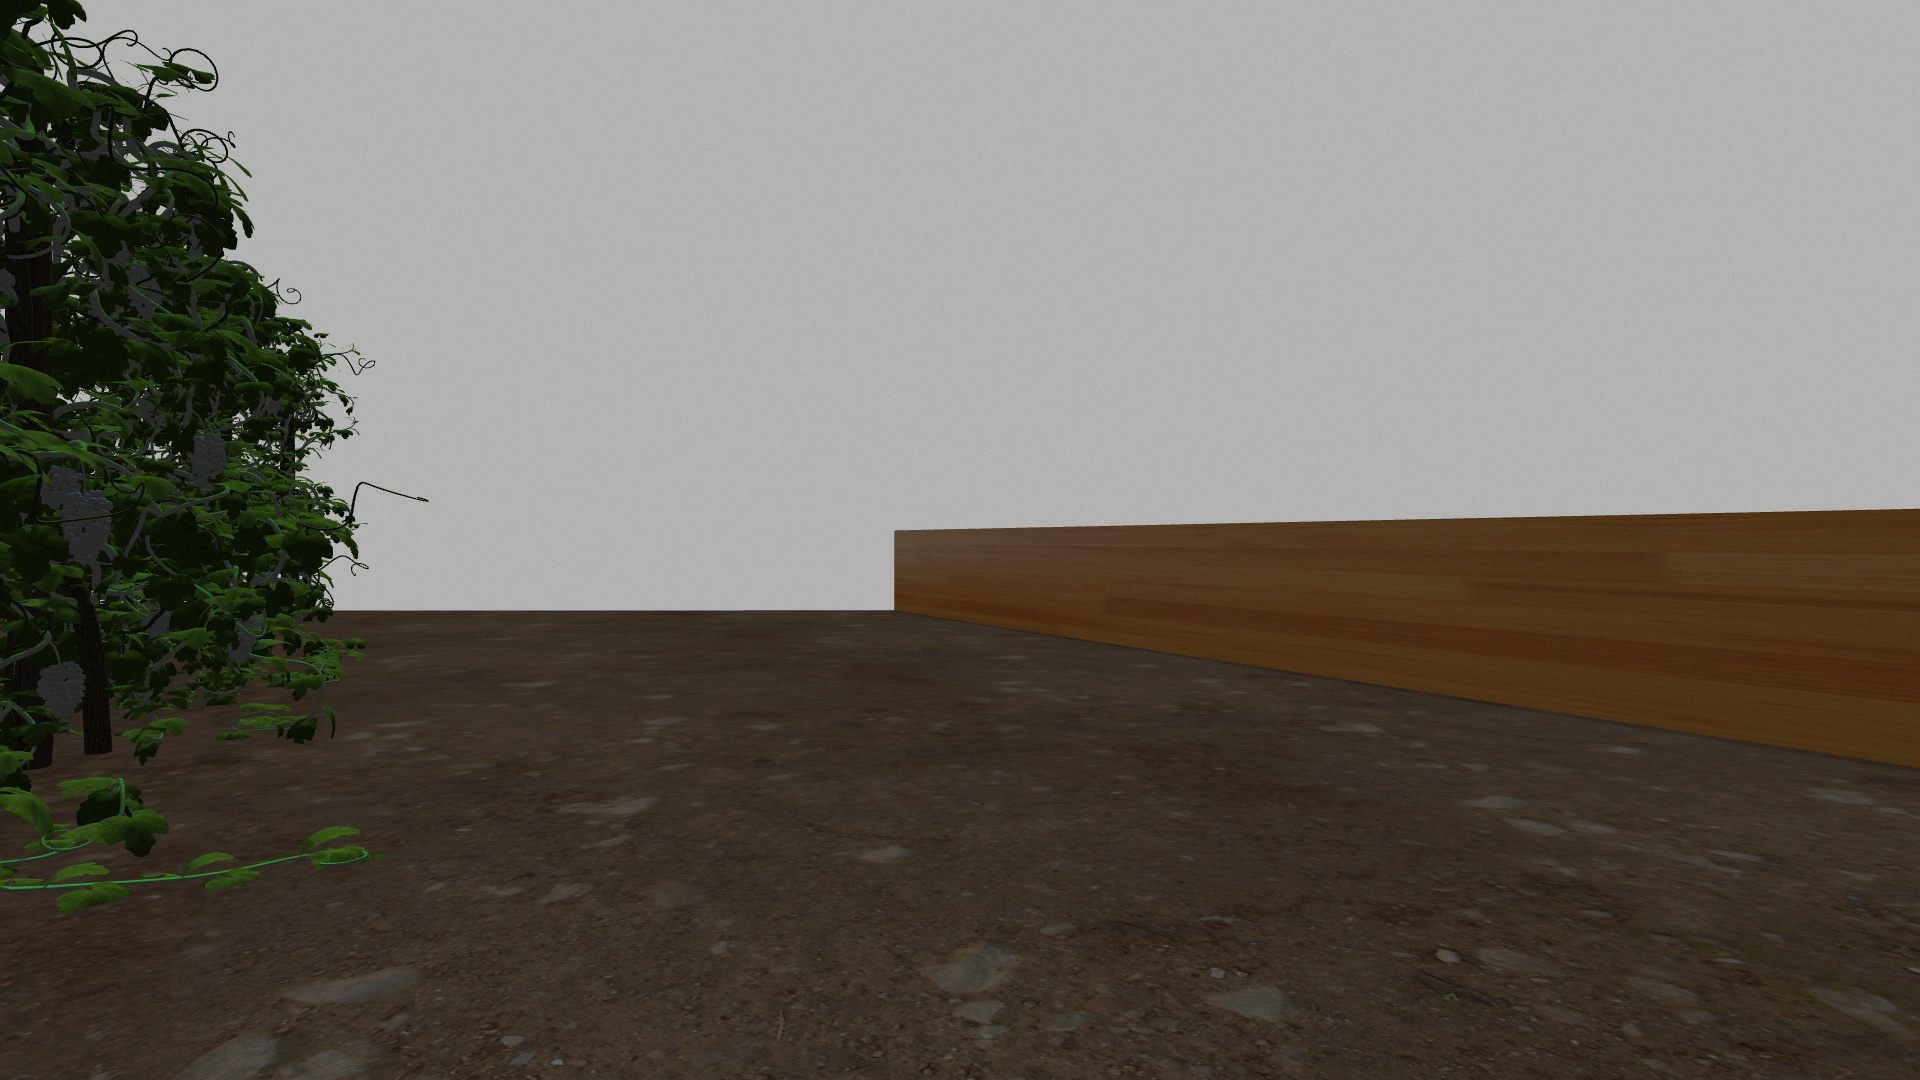grape: (62, 488, 112, 564), (36, 659, 87, 723), (125, 264, 164, 319), (189, 431, 228, 481), (40, 465, 82, 506), (227, 612, 256, 665), (141, 607, 171, 636)
